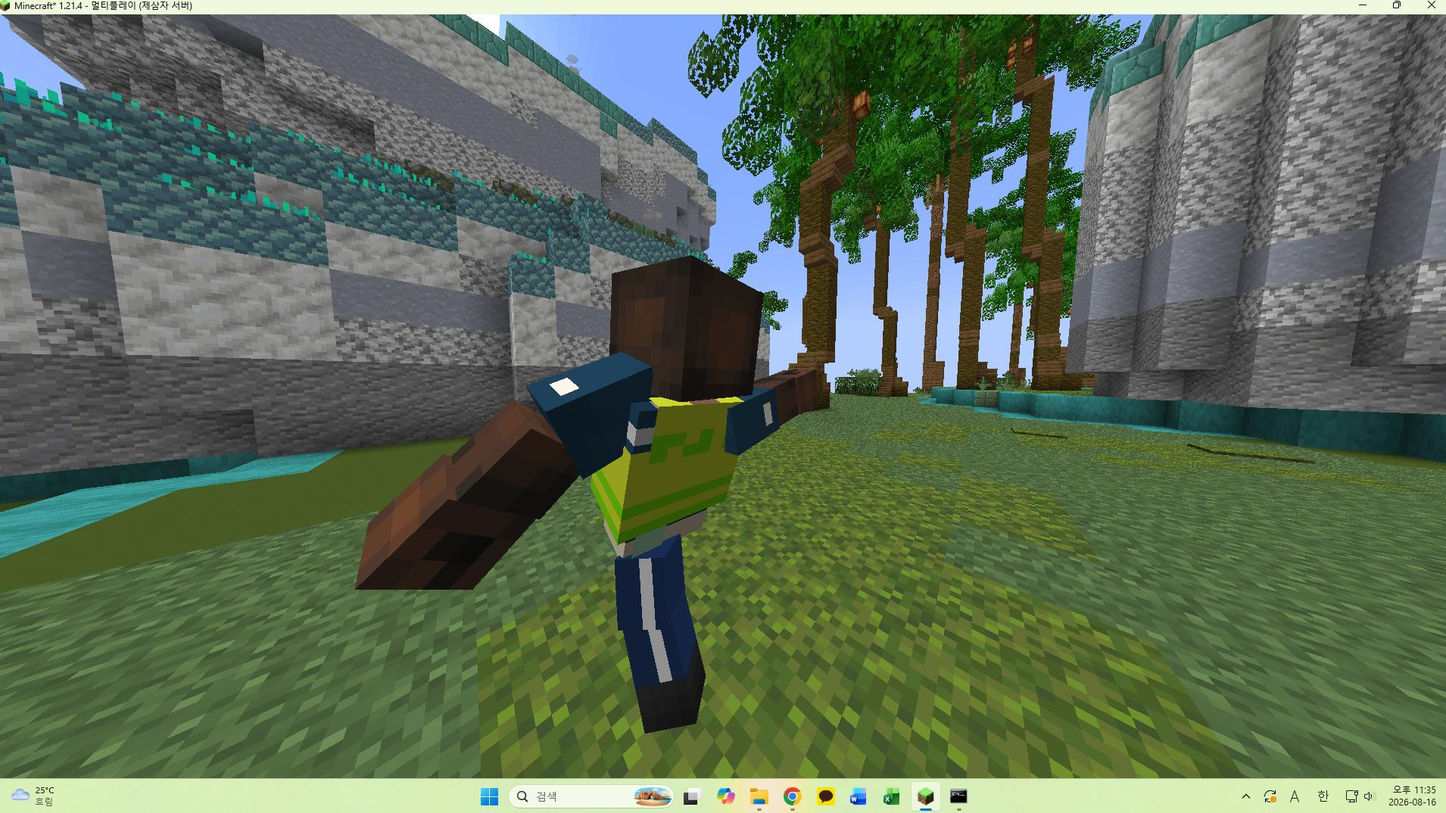Guardian: (357, 257, 816, 733)
